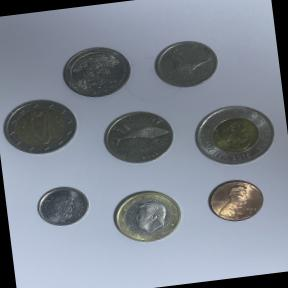coin: (186, 96, 284, 178), (94, 102, 182, 176), (106, 182, 192, 250), (0, 93, 83, 163), (58, 42, 136, 103), (201, 172, 271, 228), (32, 180, 94, 232)
